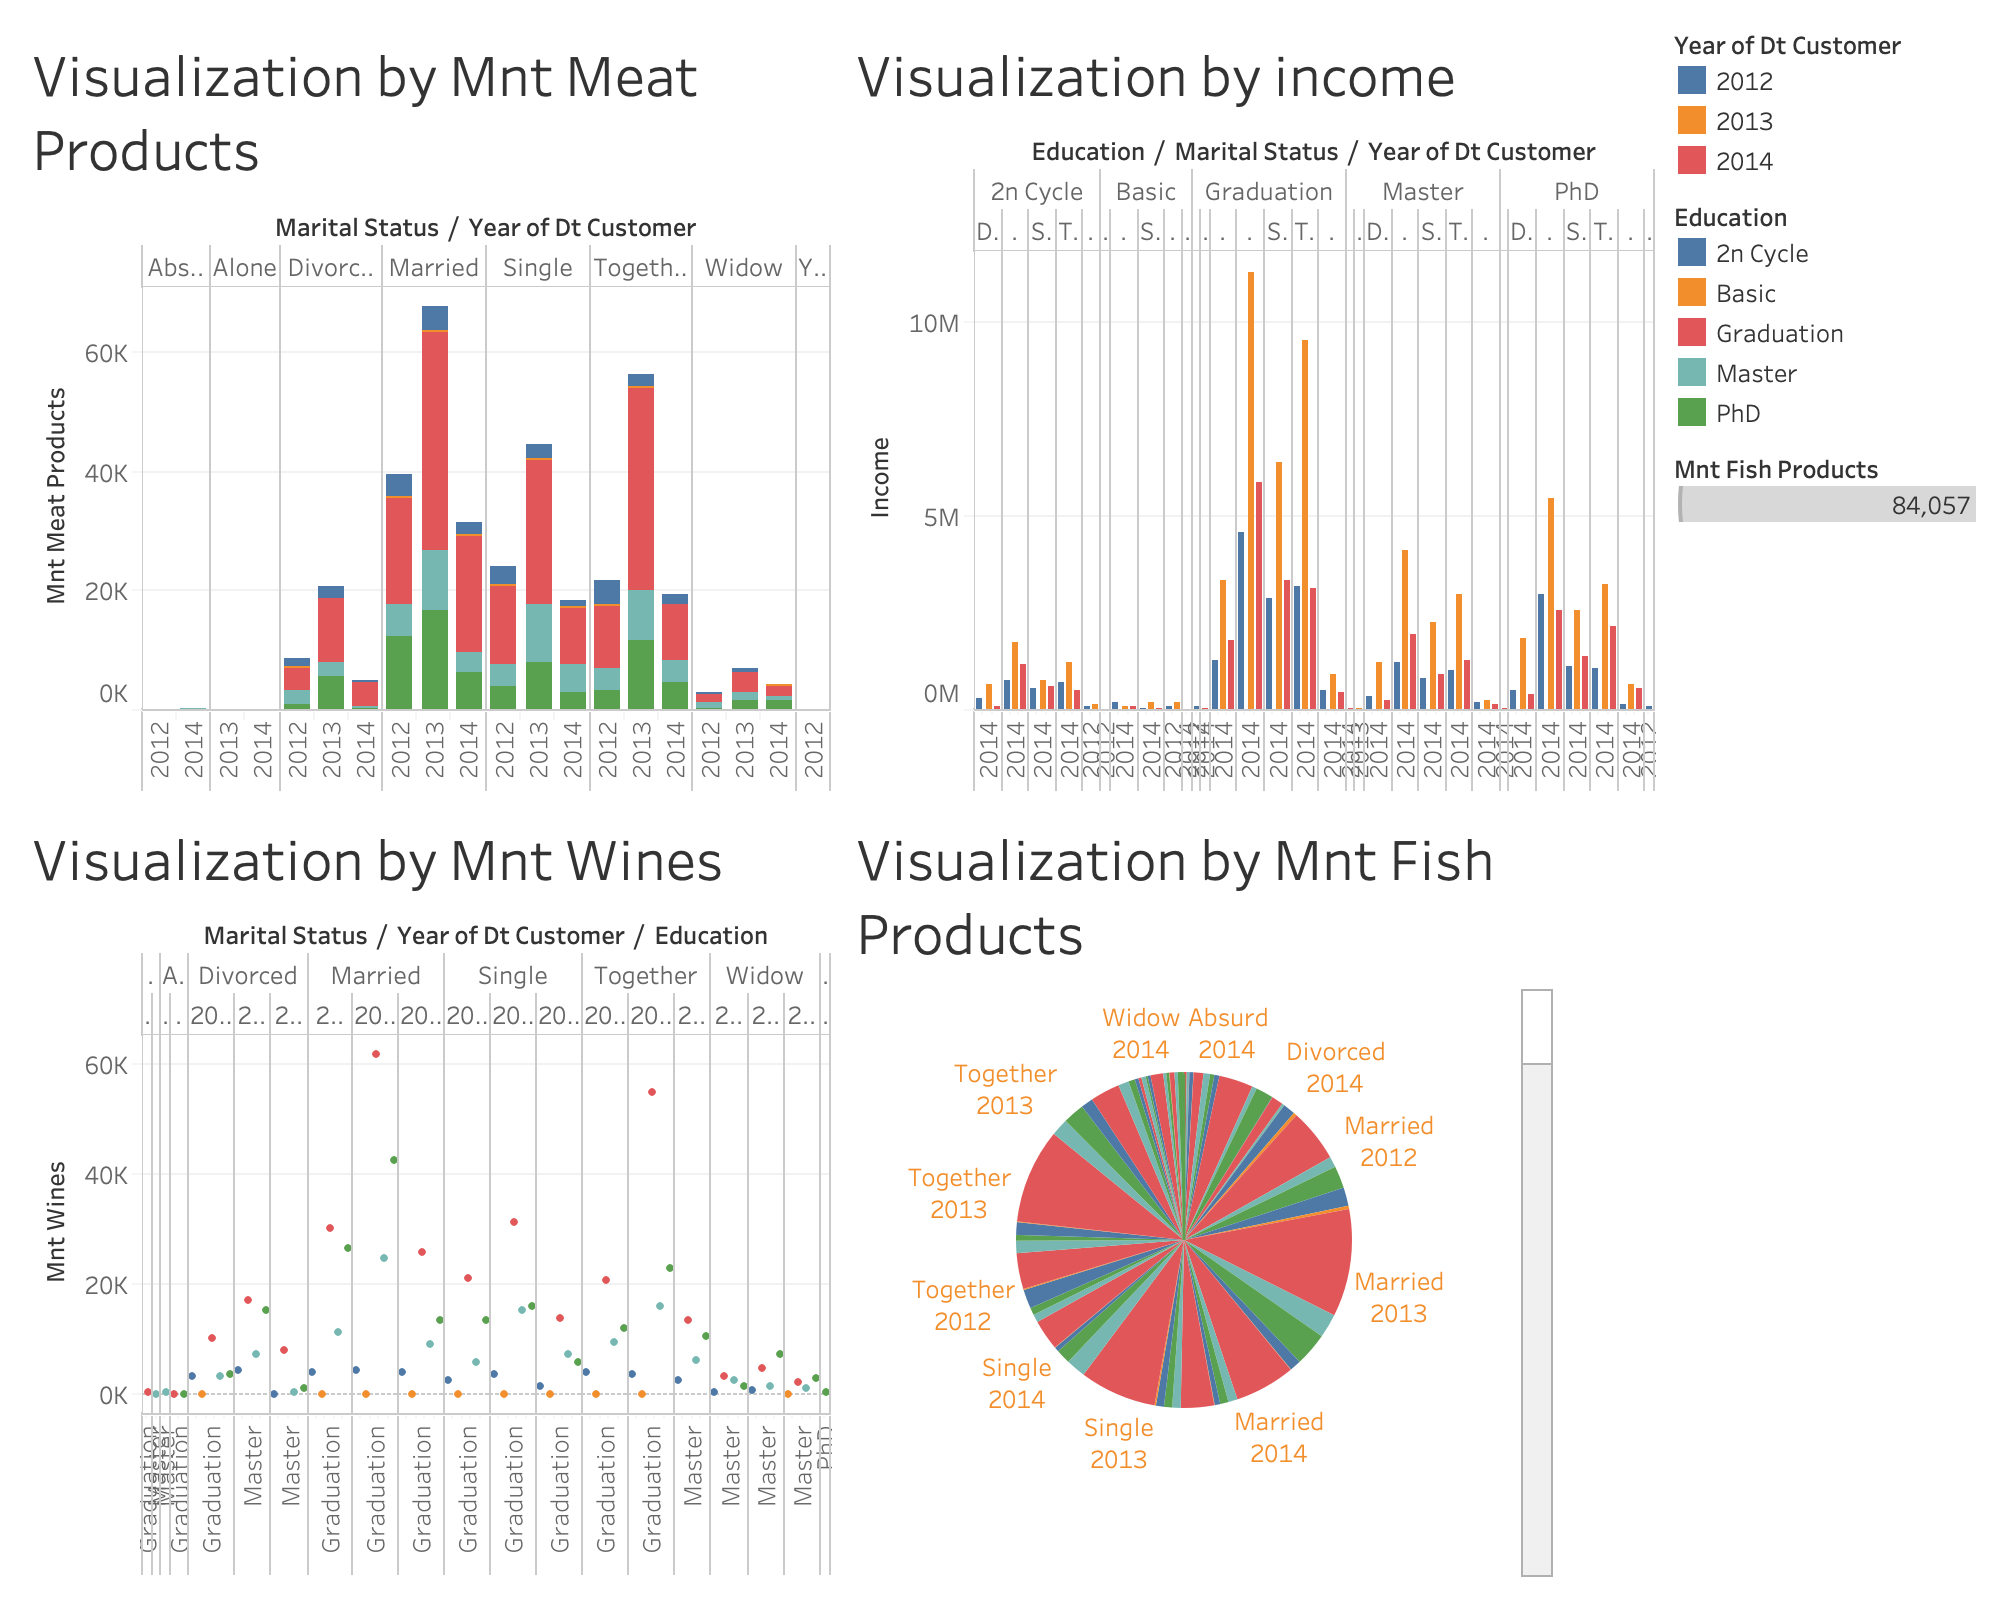

The dashboard page shown, as its layout file describes it:
{"tool":"tableau","page":{"name":"Dashboard 1","canvas":[1000,800],"ordinal":0},"visuals":[{"type":"worksheet","box":[0,0,1000,800]},{"type":"worksheet","param":"vert","box":[8,8,984,784]},{"type":"worksheet","param":"vert","box":[8,8,984,784]},{"type":"worksheet","param":"horz","box":[8,8,984,784]},{"type":"worksheet","box":[8,8,824,784]},{"type":"worksheet","title":"Sheet 1 (2)","mark":"Bar","rows":["MntMeatProducts"],"cols":["Marital_Status","Dt_Customer"],"box":[8,8,412,392]},{"type":"worksheet","title":"Sheet 1","mark":"Bar","rows":["Income"],"cols":["Education","Marital_Status","Dt_Customer"],"box":[420,8,412,392]},{"type":"worksheet","param":"vert","box":[832,8,160,784]},{"type":"worksheet","title":"Sheet 1","mark":"Bar","rows":["Income"],"cols":["Education","Marital_Status","Dt_Customer"],"param":"[federated.13864yn04rcah912upyez093k7ca].[tyr:Dt_Customer:ok]","box":[832,8,160,86]},{"type":"worksheet","title":"Sheet 1 (2)","mark":"Bar","rows":["MntMeatProducts"],"cols":["Marital_Status","Dt_Customer"],"param":"[federated.13864yn04rcah912upyez093k7ca].[none:Education:nk]","box":[832,94,160,126]},{"type":"worksheet","title":"Sheet 1 (4)","mark":"Pie","param":"[federated.13864yn04rcah912upyez093k7ca].[sum:MntFishProducts:qk]","box":[832,220,160,46]},{"type":"worksheet","title":"Sheet 1 (3)","mark":"Shape","rows":["MntWines"],"cols":["Marital_Status","Dt_Customer","Education"],"box":[8,400,412,392]},{"type":"worksheet","title":"Sheet 1 (4)","mark":"Pie","box":[420,400,412,392]}]}

Visuals, with their boxes in screenshot pixels (x1, y1, x2, y2), scaled from the page's 1000x800 canvas onto the 2000x1600 screenshot:
worksheet: bbox=[0, 0, 1999, 1599]
worksheet: bbox=[16, 16, 1984, 1584]
worksheet: bbox=[16, 16, 1984, 1584]
worksheet: bbox=[16, 16, 1984, 1584]
worksheet: bbox=[16, 16, 1664, 1584]
"Sheet 1 (2)" worksheet (Bar marks): bbox=[16, 16, 840, 800]
"Sheet 1" worksheet (Bar marks): bbox=[840, 16, 1664, 800]
worksheet: bbox=[1664, 16, 1984, 1584]
"Sheet 1" worksheet (Bar marks): bbox=[1664, 16, 1984, 188]
"Sheet 1 (2)" worksheet (Bar marks): bbox=[1664, 188, 1984, 440]
"Sheet 1 (4)" worksheet (Pie marks): bbox=[1664, 440, 1984, 532]
"Sheet 1 (3)" worksheet (Shape marks): bbox=[16, 800, 840, 1584]
"Sheet 1 (4)" worksheet (Pie marks): bbox=[840, 800, 1664, 1584]
